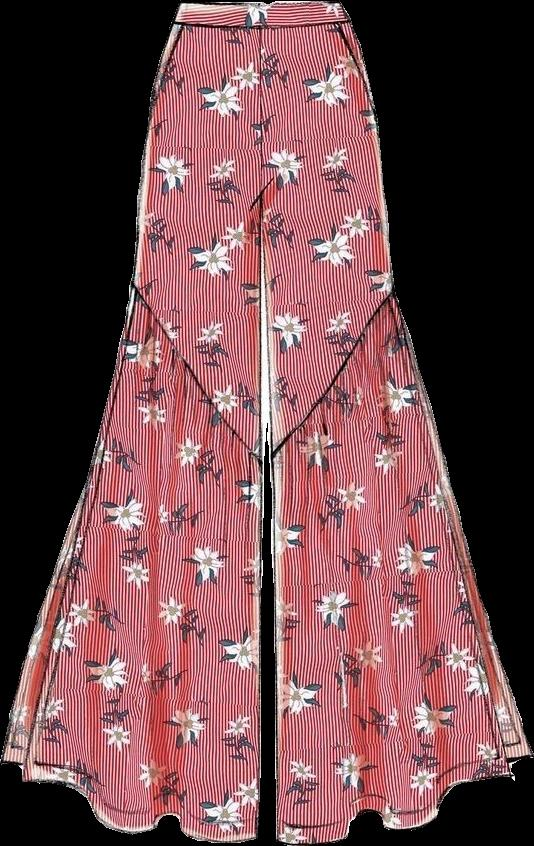Hemline: (275, 748, 533, 845), (0, 754, 264, 845)
Pantleg: (262, 0, 533, 845), (1, 0, 263, 842)
Waistline: (128, 281, 264, 461), (268, 288, 398, 462), (167, 17, 354, 37), (174, 0, 344, 13)
